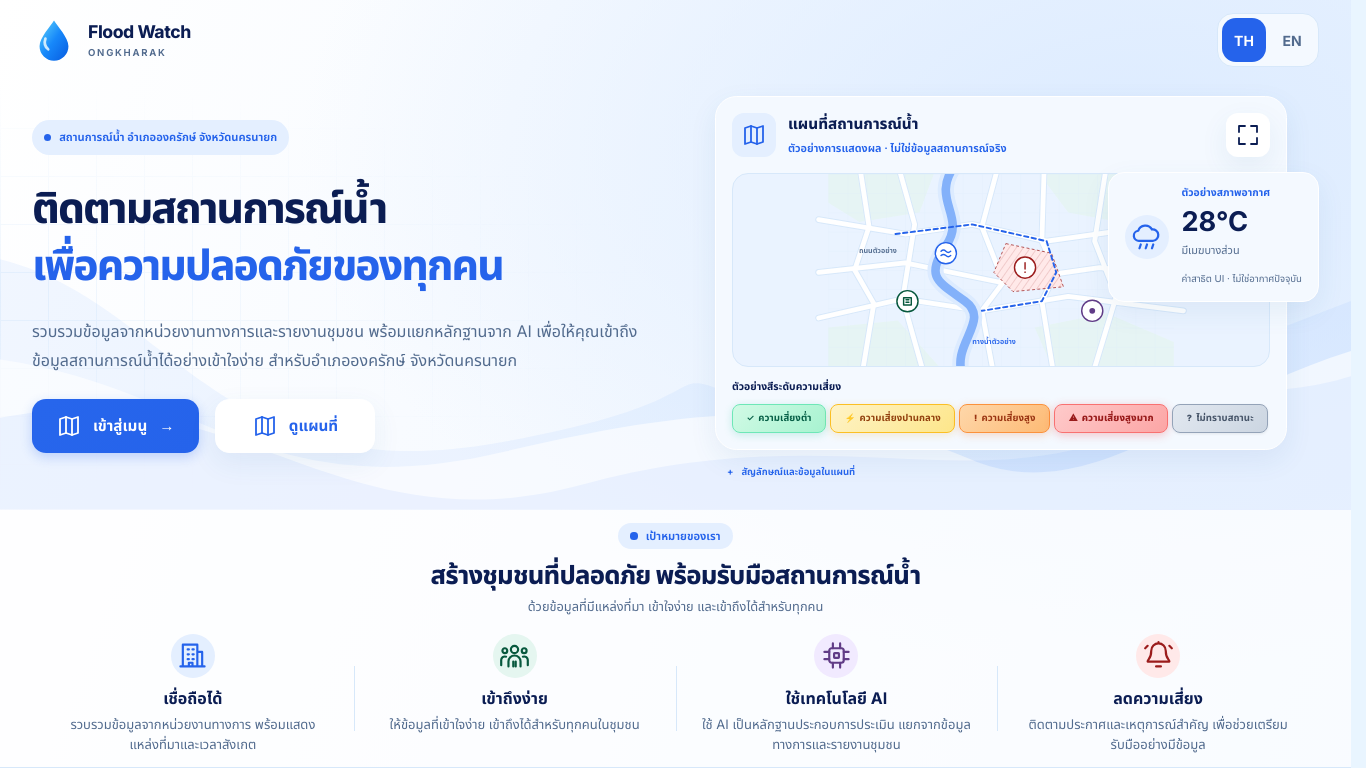
Scenario: landing and overview navigation › opens the original overview without login and preserves navigation and brand return
The image size is (1366, 768).
Click the link "เข้าสู่เมนู →" at coordinates (116, 426), box [32, 399, 199, 453]
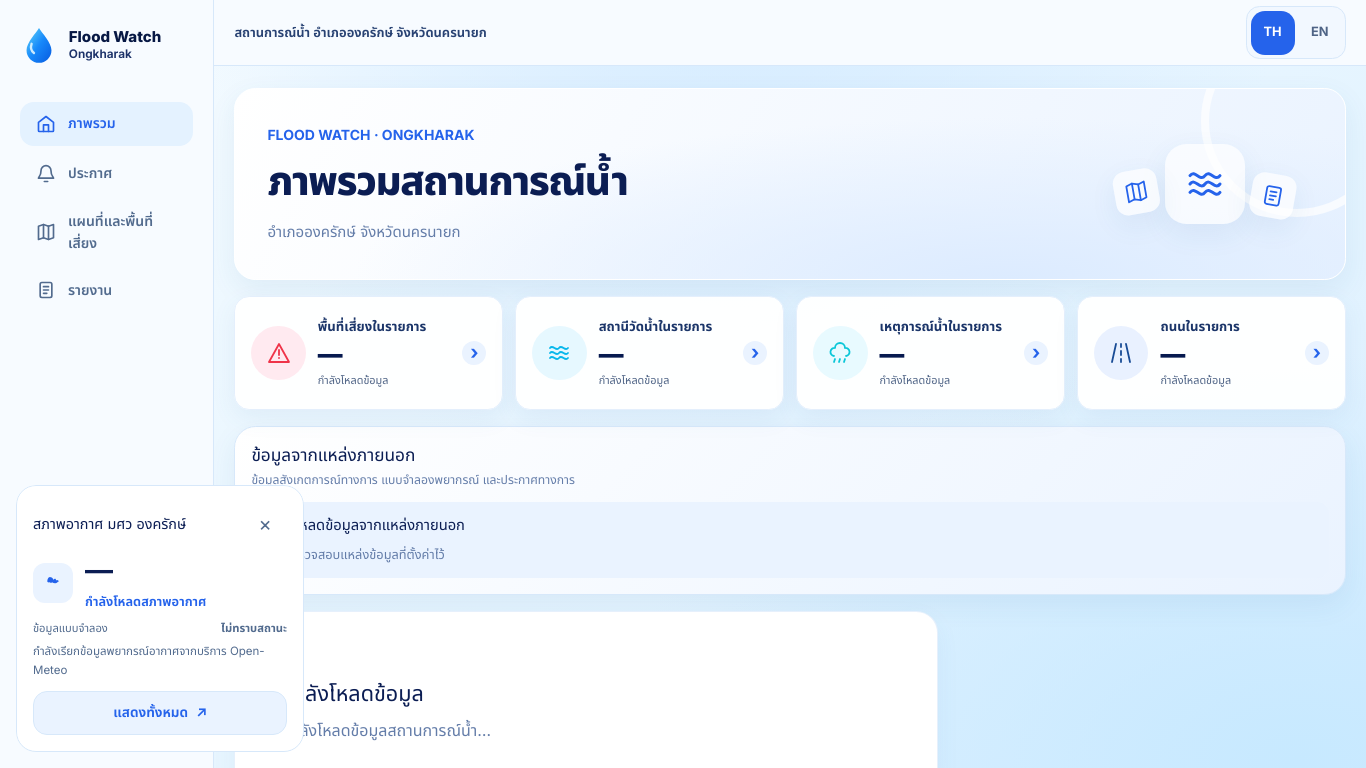
Check: the heading "ภาพรวมสถานการณ์น้ำ" is shown, box [267, 156, 628, 205]
Click the link with aria-label "Flood Watch Ongkharak หน้าหลัก" at coordinates (91, 45), box [20, 26, 161, 64]
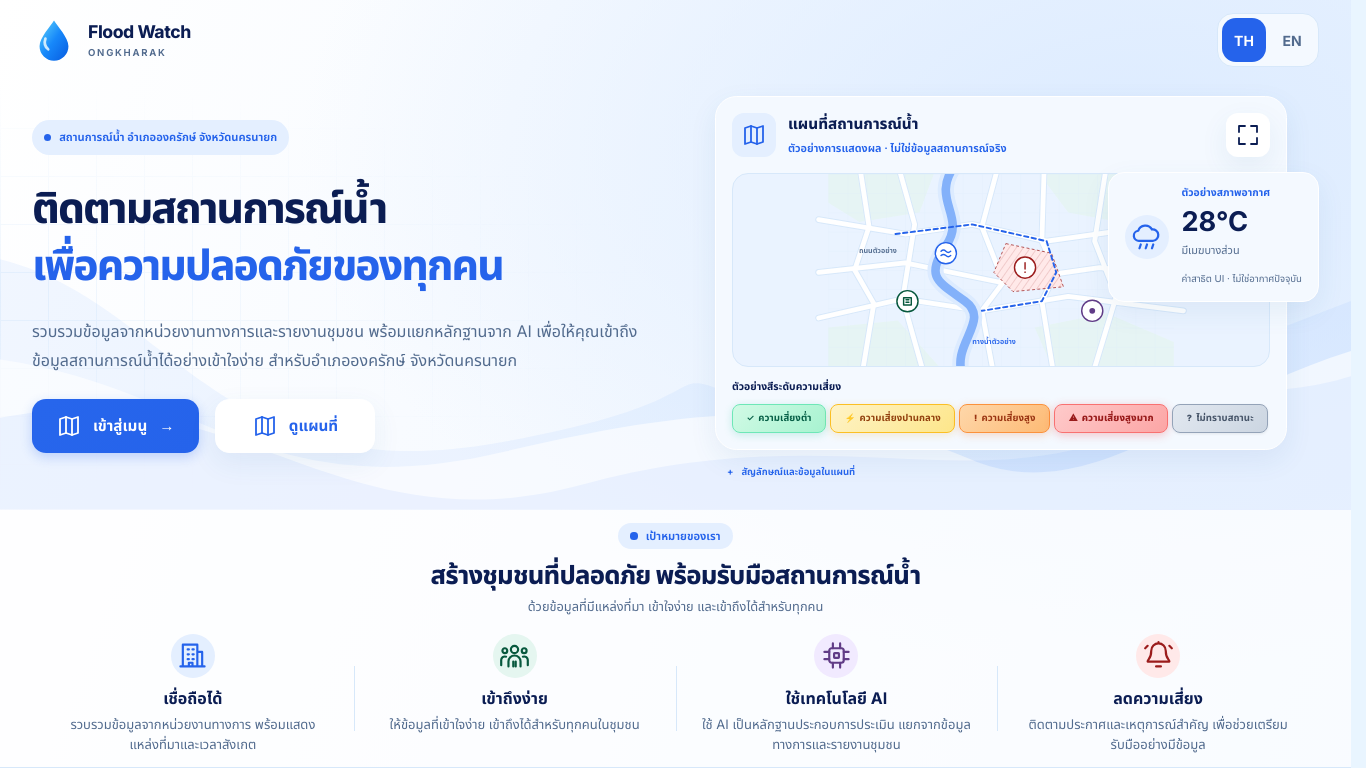
Check: the heading "ติดตามสถานการณ์น้ำ เพื่อความปลอดภัยของทุกคน" is shown, box [32, 182, 503, 290]
